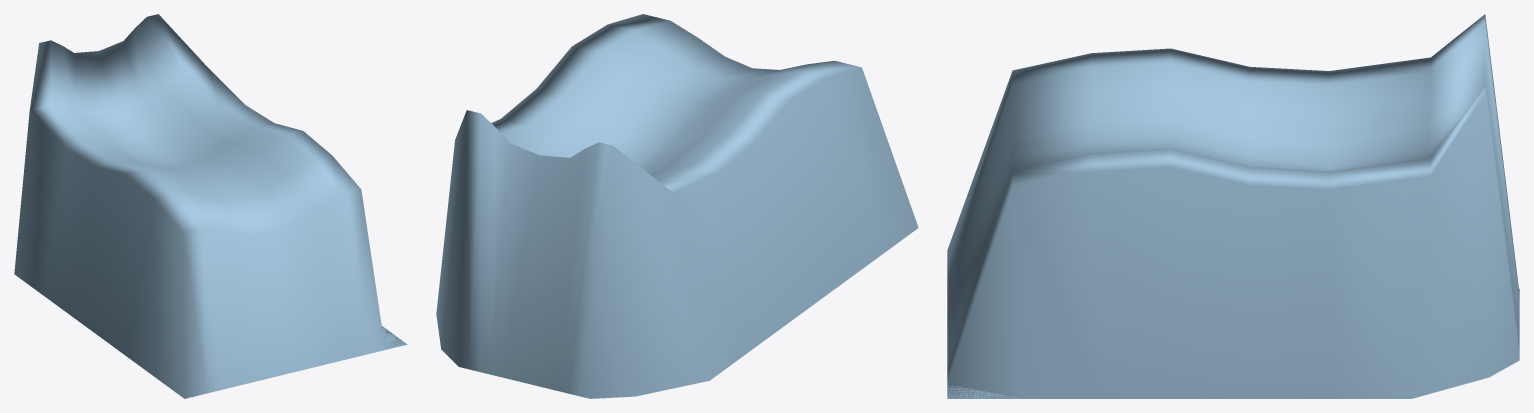
Rendered from sliverman.fbx.
3 renders of one model, left to right at view 1: azimuth 30°, elevation 25°; view 2: azimuth 150°, elevation 25°; view 3: azimuth 270°, elevation 25°, orthographic. The views are drawn at different scales.
Parts seen in each view (by area): view 1: size_a; view 2: size_a; view 3: size_a.
Boxes of the visible parts, x1,y1,x2,y2 form: size_a: [14, 14, 407, 398]; size_a: [436, 14, 918, 398]; size_a: [947, 14, 1519, 398].
Size of the model in its own units: 1.29 by 1.1 by 2.11.
